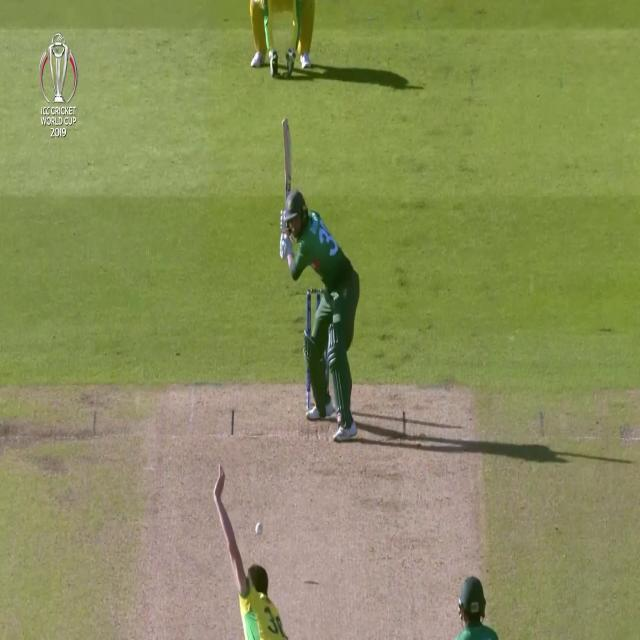ball: (253, 519, 264, 538)
